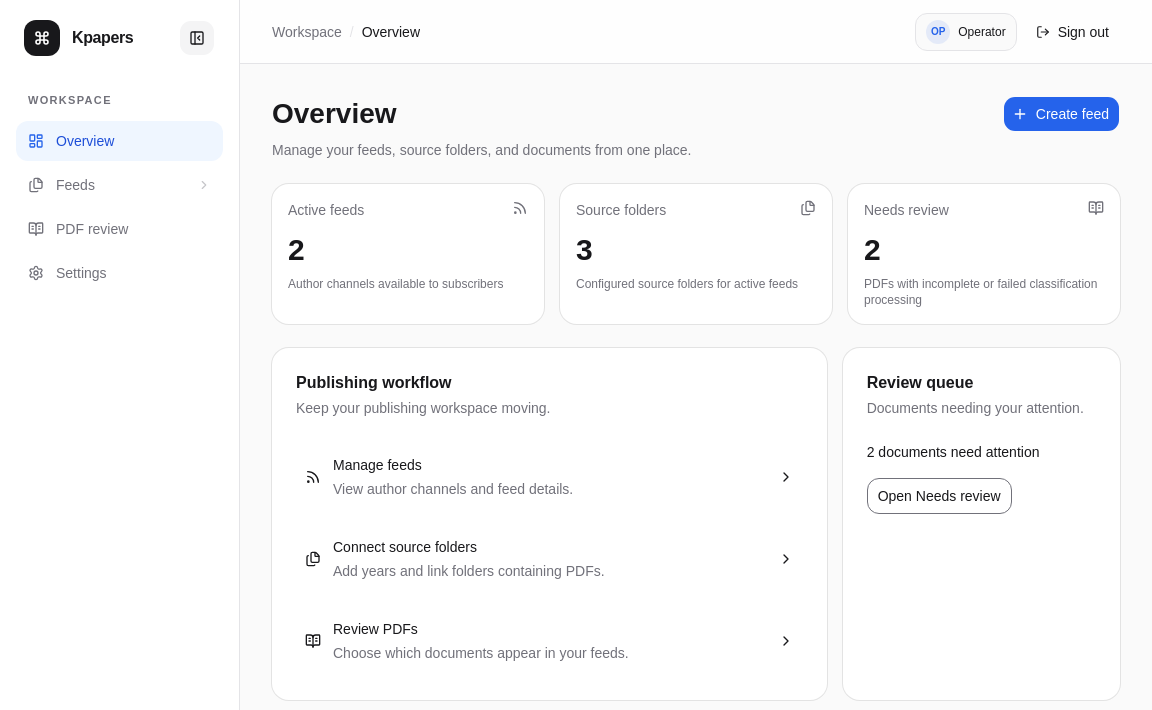
it: operator session and dashboard shell › keeps PDF review feed, year, and month selections in the URL
Expected: the heading "Overview" is shown, [272, 98, 396, 129]
Click the button "PDF review". click: [120, 228]
box: [16, 208, 223, 248]
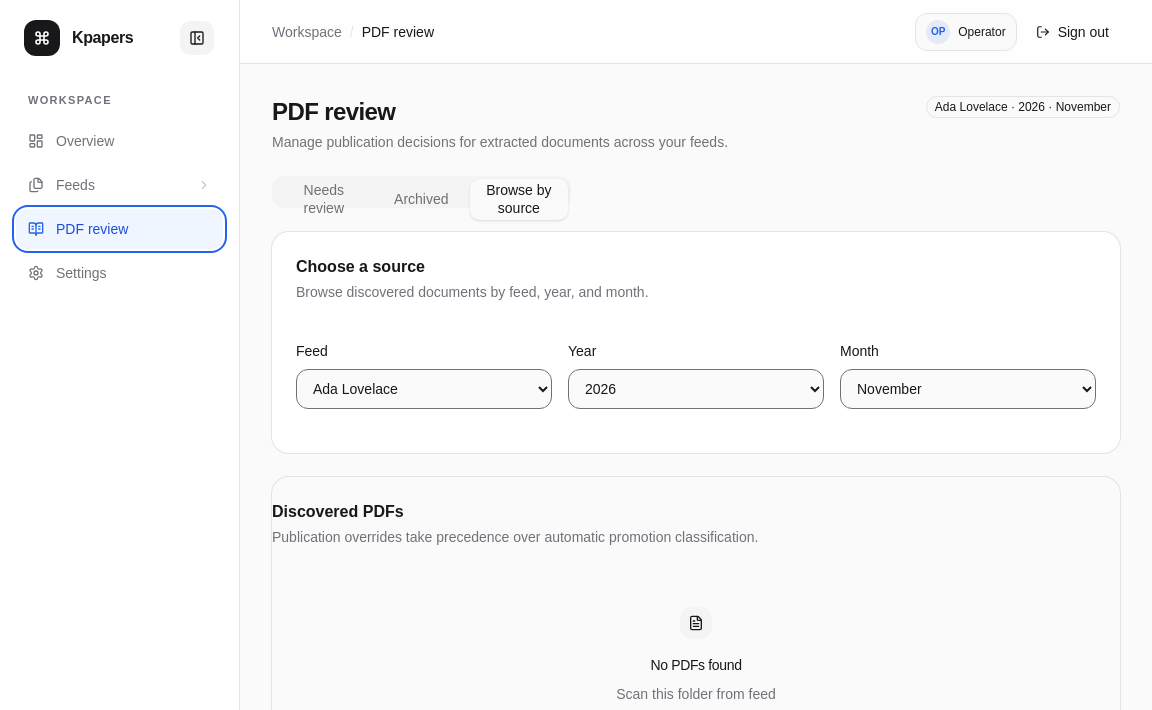
Expected: the text "Ada Lovelace · 2026 · November" is shown, [926, 96, 1120, 118]
Expected: the text "No PDFs found" is shown, [650, 655, 742, 675]
Select "Grace Hopper" in the dropdown labelled "Feed". click: [424, 389]
box: [296, 369, 552, 409]
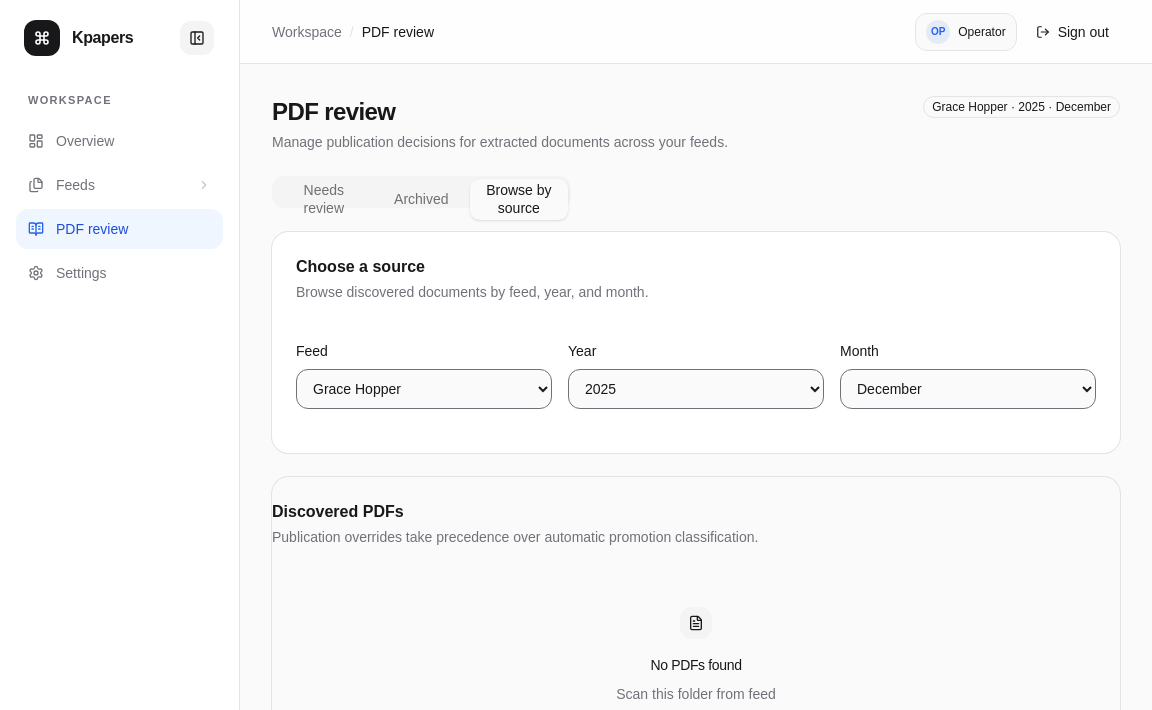
Expected: the dropdown labelled "Year" shows "2025", [568, 369, 824, 409]
Expected: the dropdown labelled "Feed" shows "Grace Hopper", [296, 369, 552, 409]
Expected: the dropdown labelled "Month" shows "December", [840, 369, 1096, 409]
